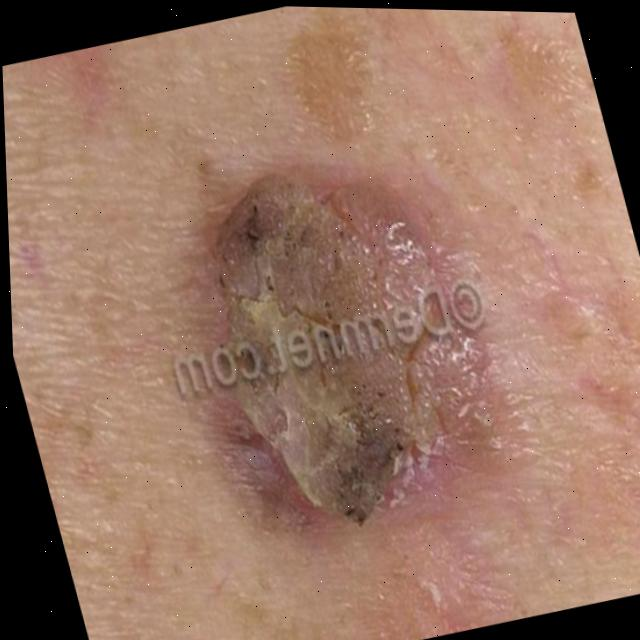Eczema: (135, 133, 516, 553)
